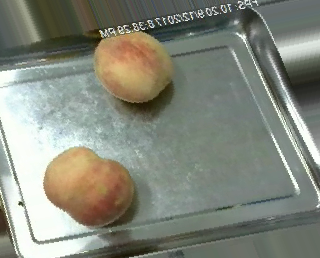Peach: (41, 146, 134, 226), (92, 28, 172, 102)
